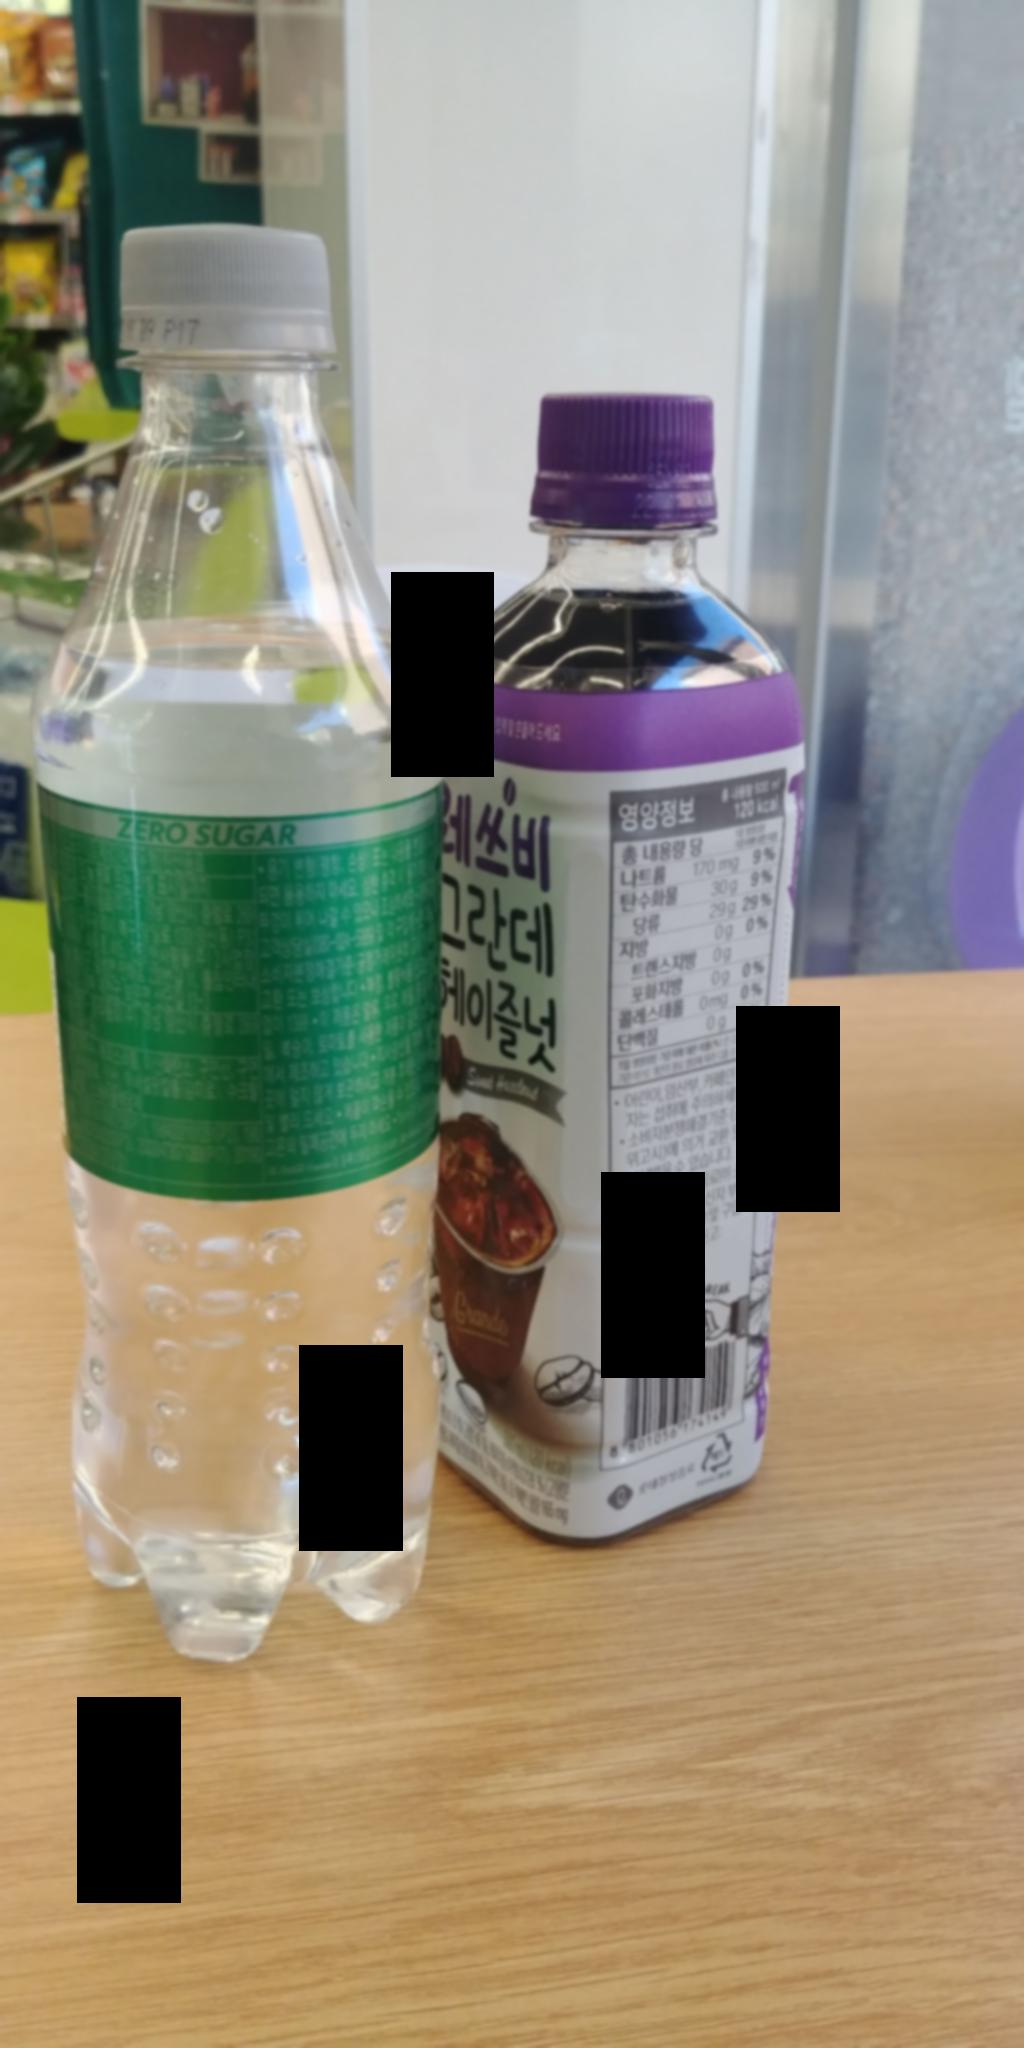letsbe_grande_hazelnut: (445, 379, 839, 1541)
sprite_zero: (42, 202, 466, 1712)
